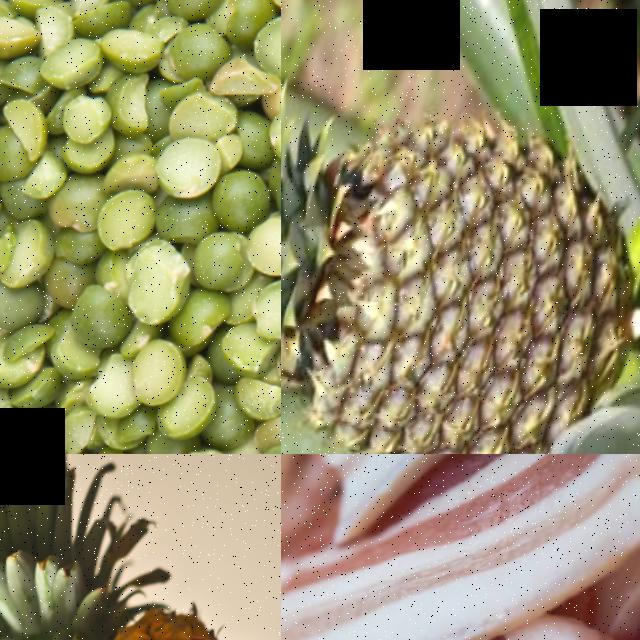peas: (0, 0, 281, 454)
pineapple: (281, 85, 640, 454), (0, 547, 281, 640)
pork belly: (281, 461, 588, 640)
